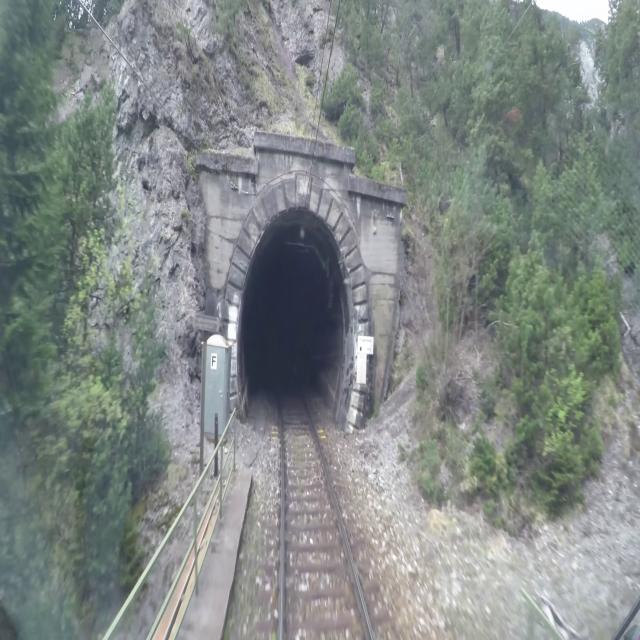rail-track: (276, 384, 370, 639)
